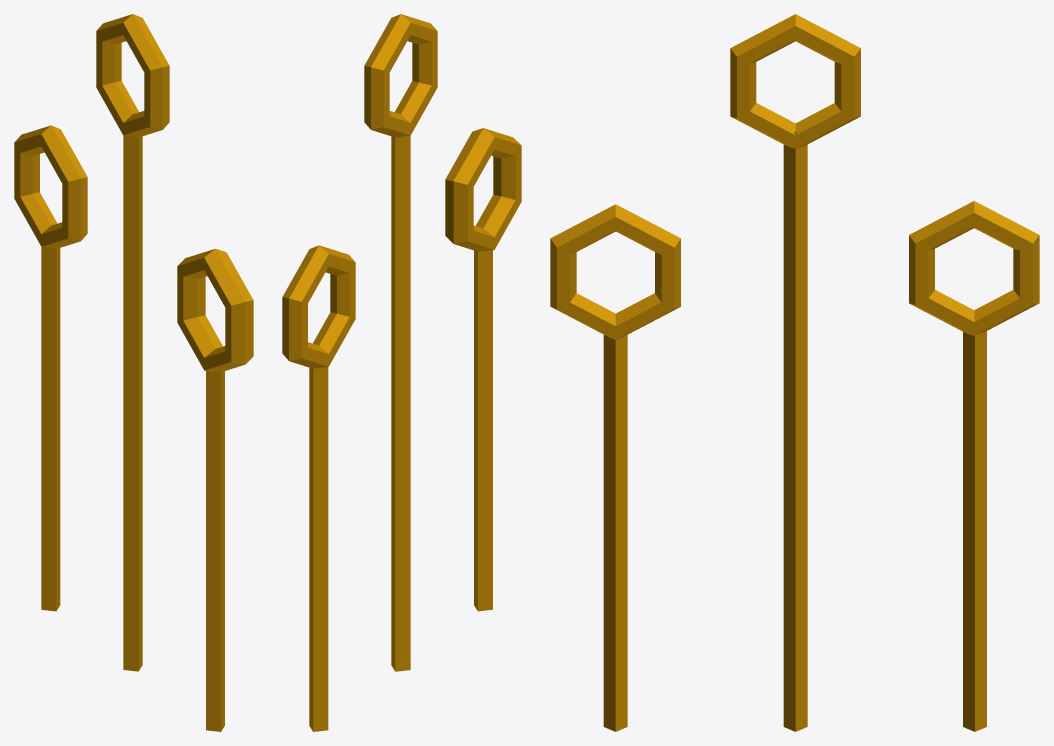
The model's file is goals.fbx.
3 renders of one model, left to right at view 1: azimuth 30°, elevation 25°; view 2: azimuth 150°, elevation 25°; view 3: azimuth 270°, elevation 25°, orthographic. The views are drawn at different scales.
Visible parts, largest first — view 1: Torus.002; view 2: Torus.002; view 3: Torus.002.
Part boxes in pixels (x1,y1,x2,y2): Torus.002: [14, 14, 253, 731]; Torus.002: [282, 14, 521, 731]; Torus.002: [550, 14, 1039, 731].
Bounding box in the file's own units: 46.59 × 1303 × 810.
